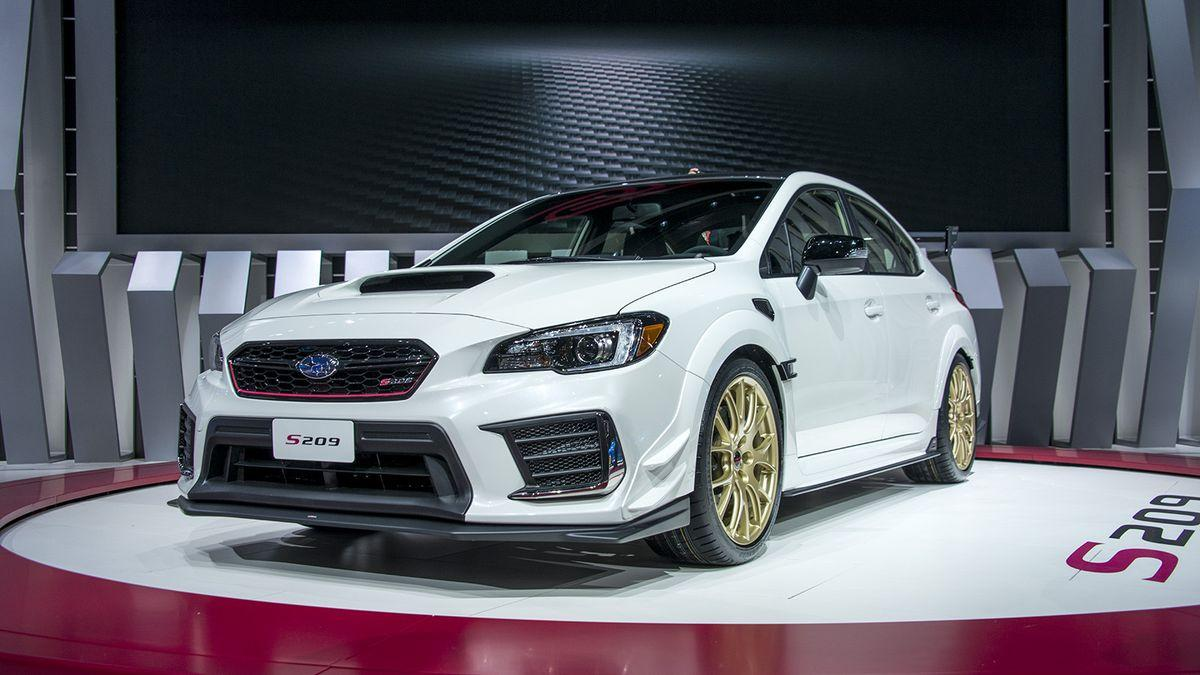subaru: (289, 343, 350, 391)
